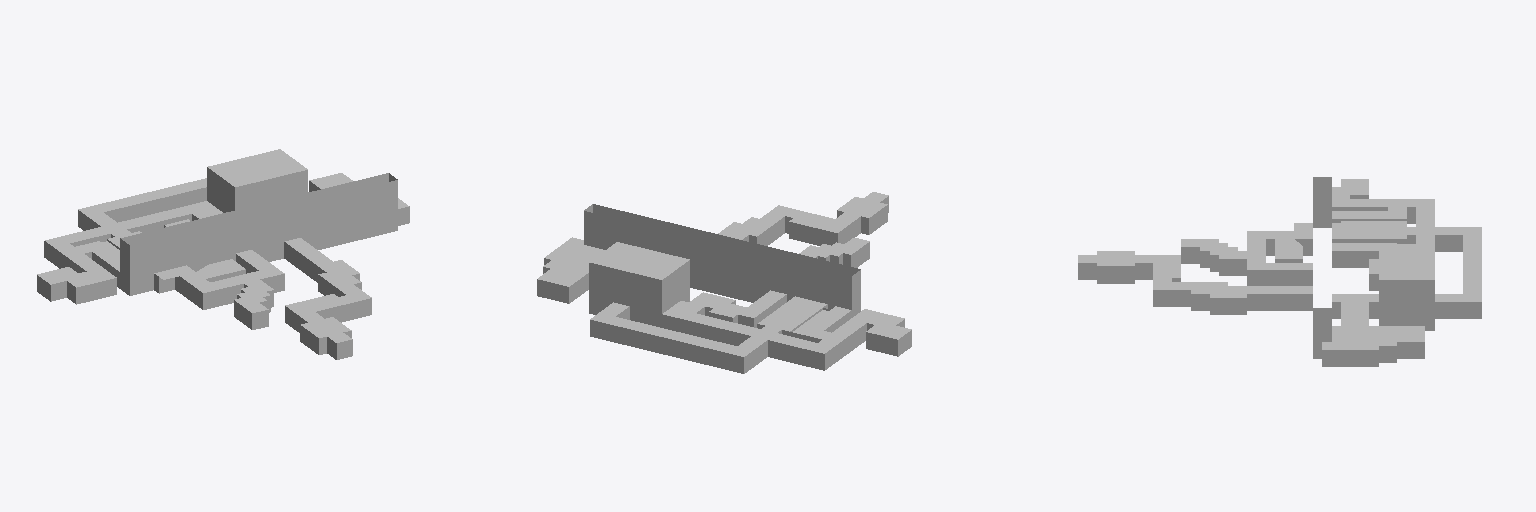
File: MAP.obj
3 views of the same model, side by side, from view 1: azimuth 30°, elevation 25°; view 2: azimuth 150°, elevation 25°; view 3: azimuth 270°, elevation 25° (orthographic).
Visible parts, largest first — view 1: MAP; view 2: MAP; view 3: MAP.
Boxes of the visible parts, x1,y1,x2,y2 form: MAP: [37, 149, 409, 359]; MAP: [537, 192, 911, 373]; MAP: [1078, 177, 1481, 366].
Size of the model in its own units: 43 by 6 by 43.